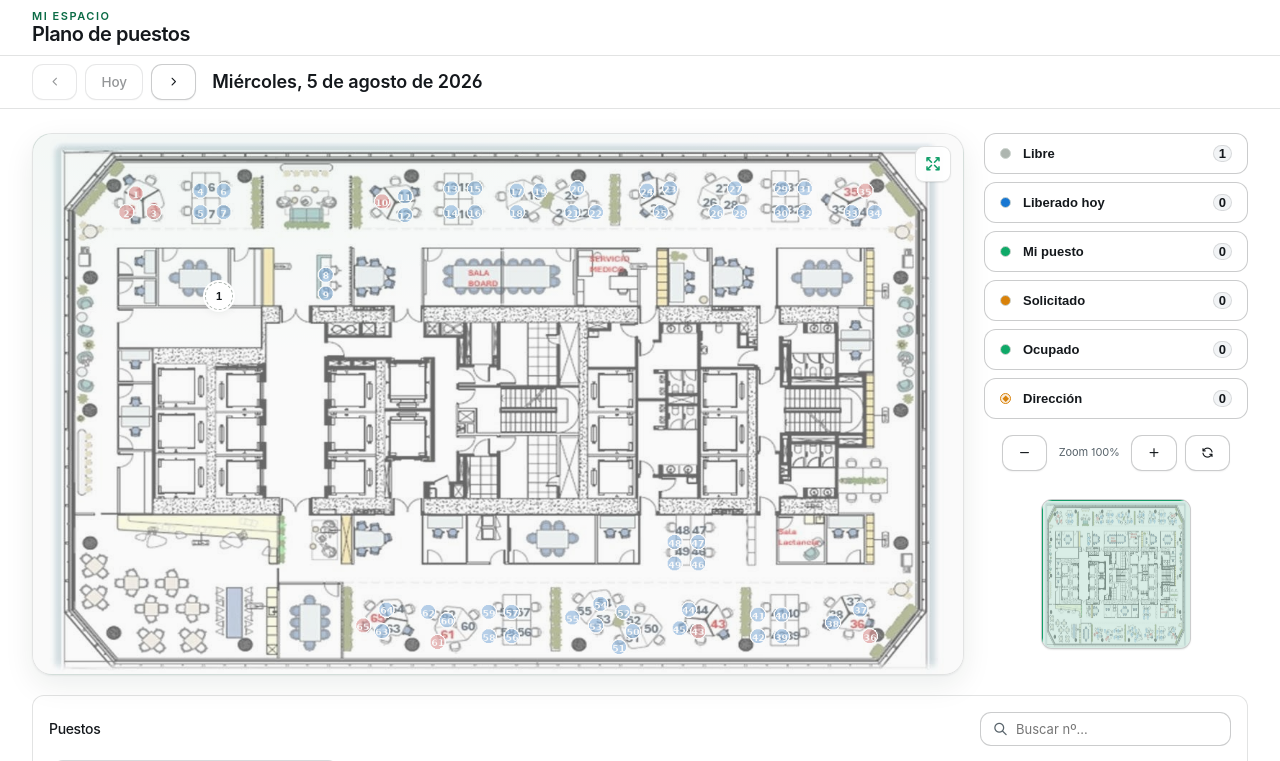
Test: FloorPlanPage › should_show_conflict_feedback_when_requesting_a_non_free_desk_returns_409
This screenshot has width=1280, height=761.
Click the button named "puesto 1" at (219, 296), box [205,282,233,310]
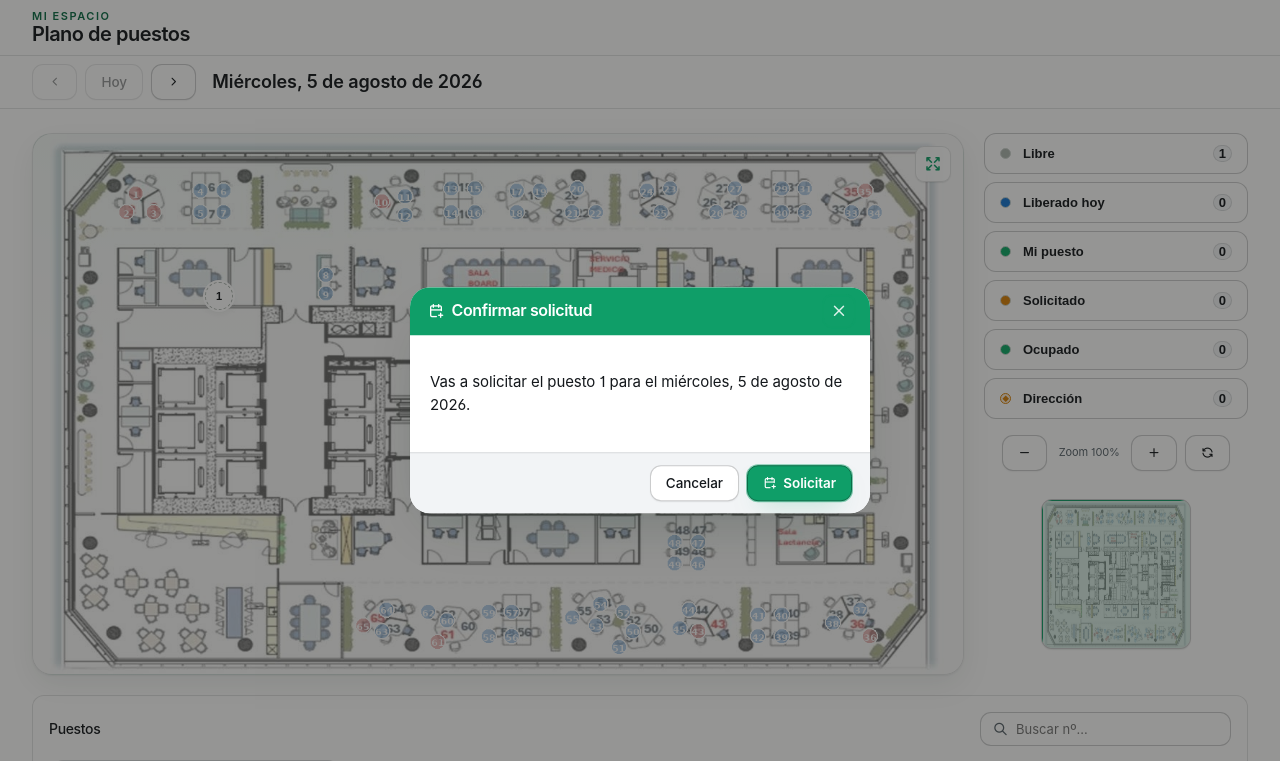
Click the button "Solicitar" at (799, 483), box [747,465,852,501]
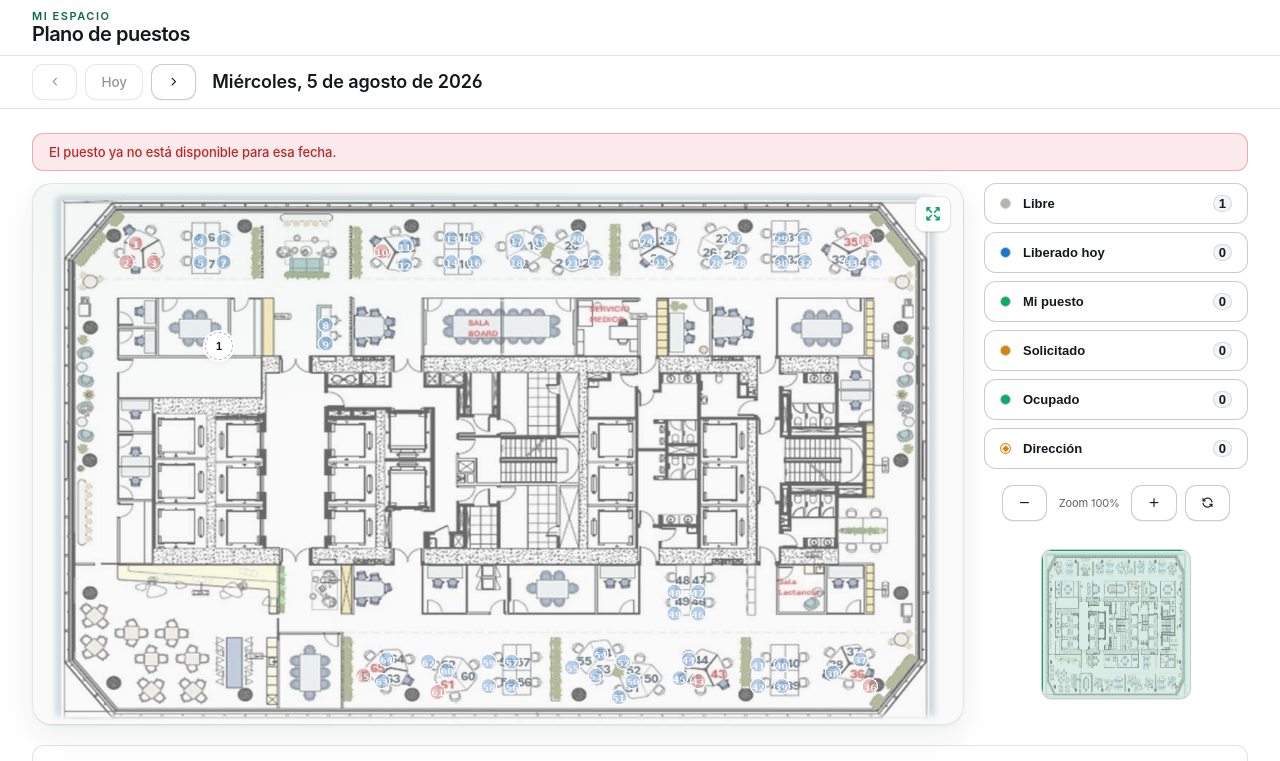
Expected: the text "El puesto ya no está disponible para esa fecha." is shown, [32,133,1248,171]
